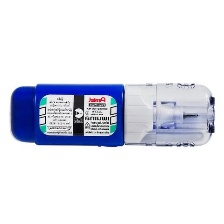correction_fluid: (6, 80, 218, 149)
